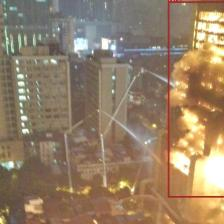fire: (167, 1, 224, 197)
